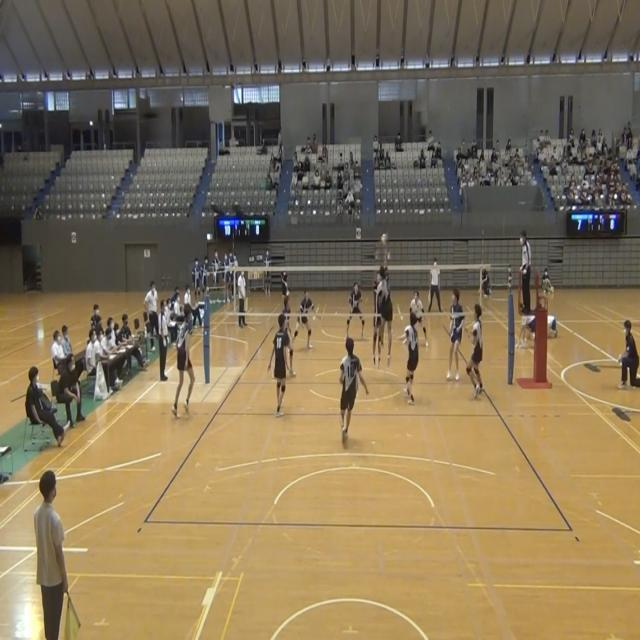spike: (370, 228, 398, 368)
